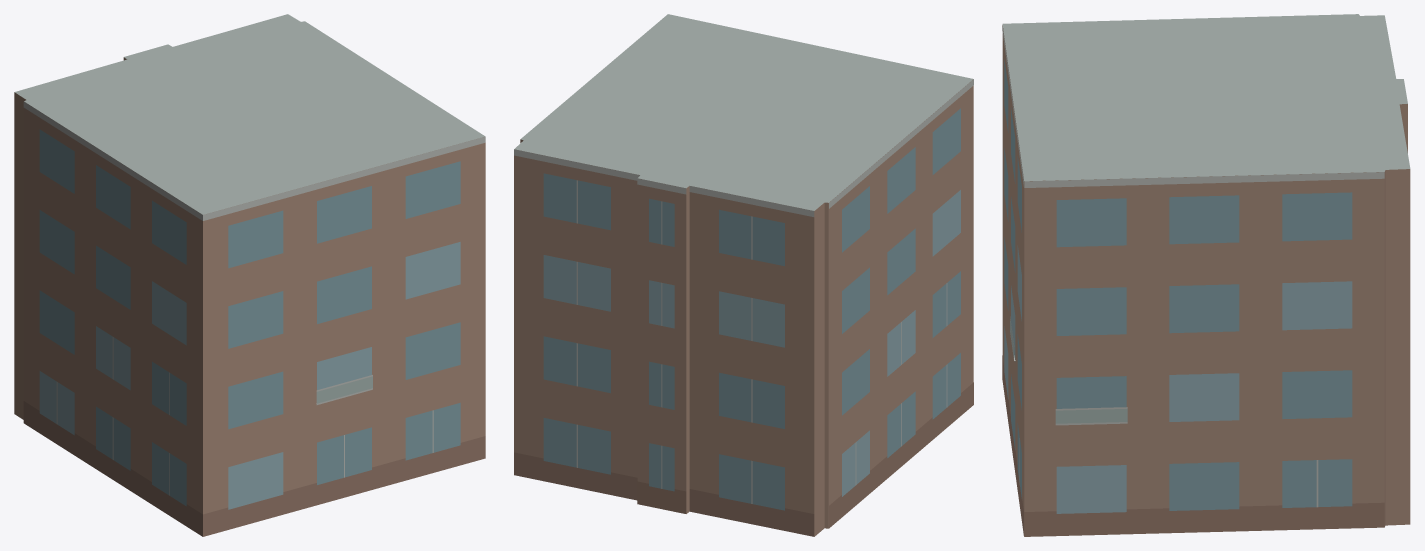
File: survey-upis-32978482.glb
3 renders of one model, left to right at view 1: azimuth 30°, elevation 25°; view 2: azimuth 150°, elevation 25°; view 3: azimuth 270°, elevation 25°, orthographic. The views are drawn at different scales.
Parts seen in each view (by area): view 1: survey-upis-32978482.tmp; view 2: survey-upis-32978482.tmp; view 3: survey-upis-32978482.tmp.
Boxes of the visible parts, x1,y1,x2,y2 form: survey-upis-32978482.tmp: [14, 14, 485, 536]; survey-upis-32978482.tmp: [514, 14, 973, 536]; survey-upis-32978482.tmp: [1002, 14, 1410, 536].
Size of the model in its own units: 12.77 by 12.65 by 13.16.
